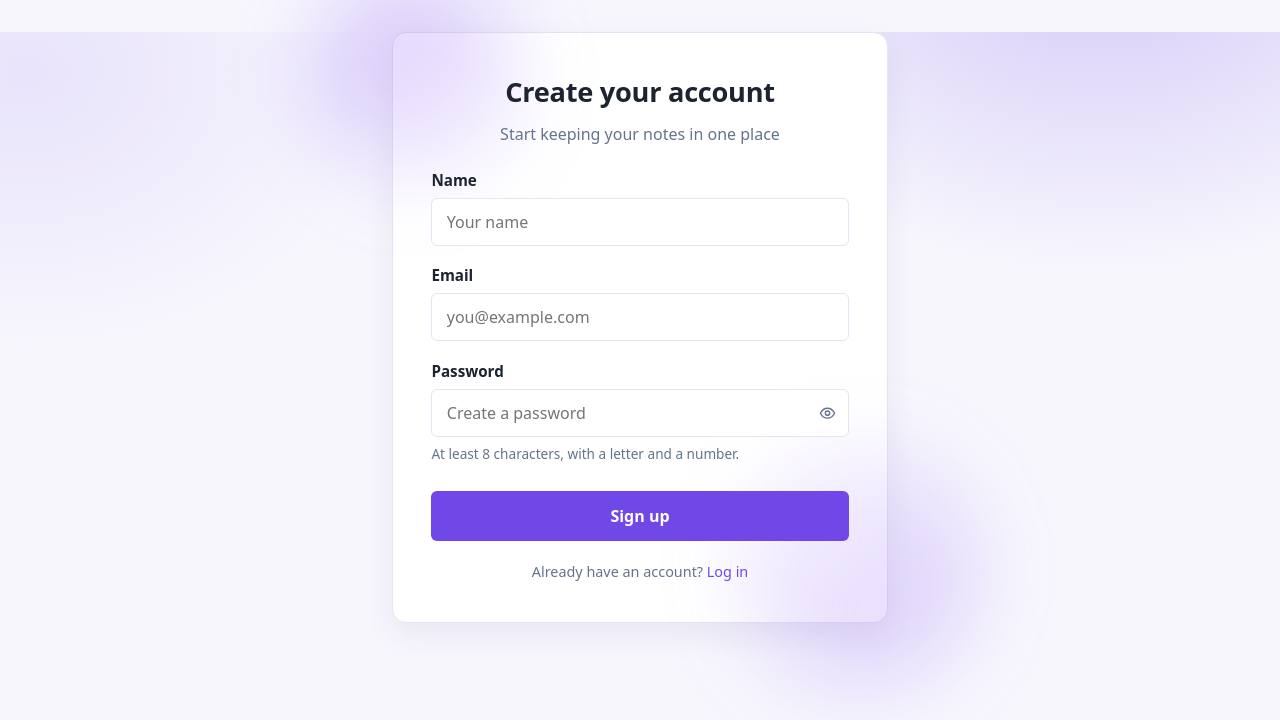
Scenario: SignupPage › shows the message when the email is already taken
Type "Aiman" into the field with placeholder "Your name" at [640, 222], box [431,198,849,246]
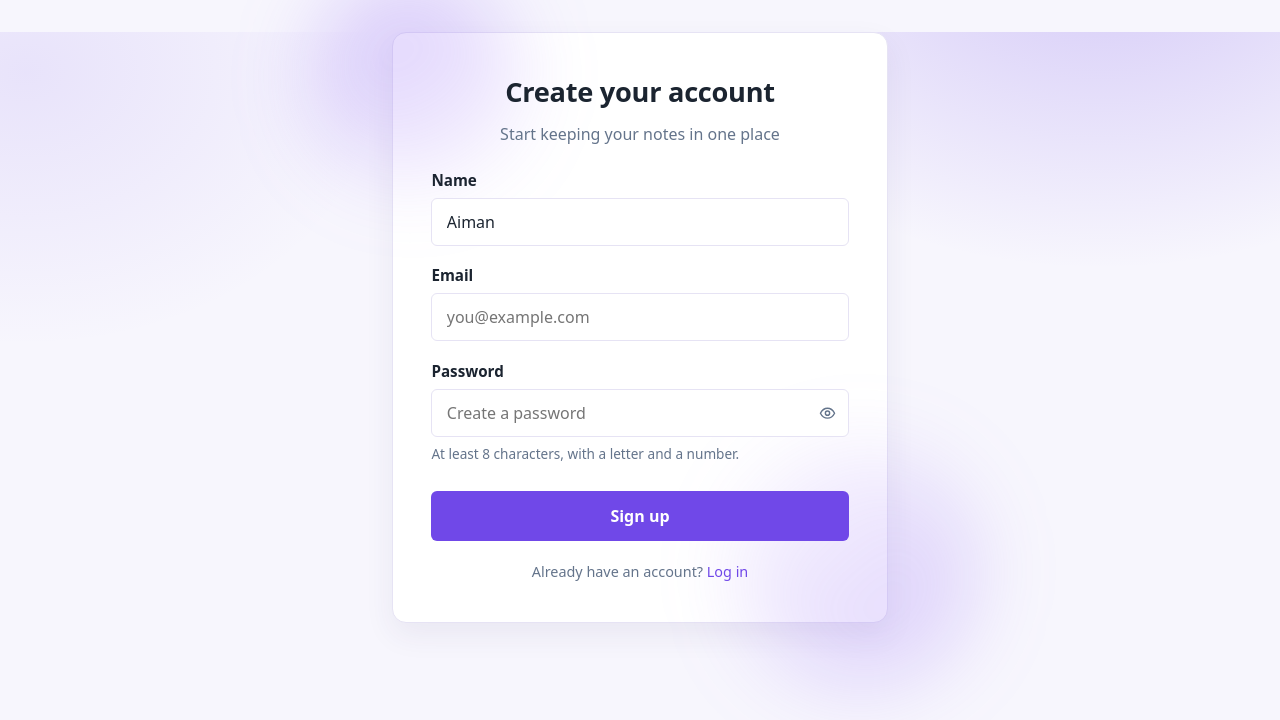
Type "aiman@example.com" into the field with placeholder "you@example.com" at [640, 317], box [431,293,849,341]
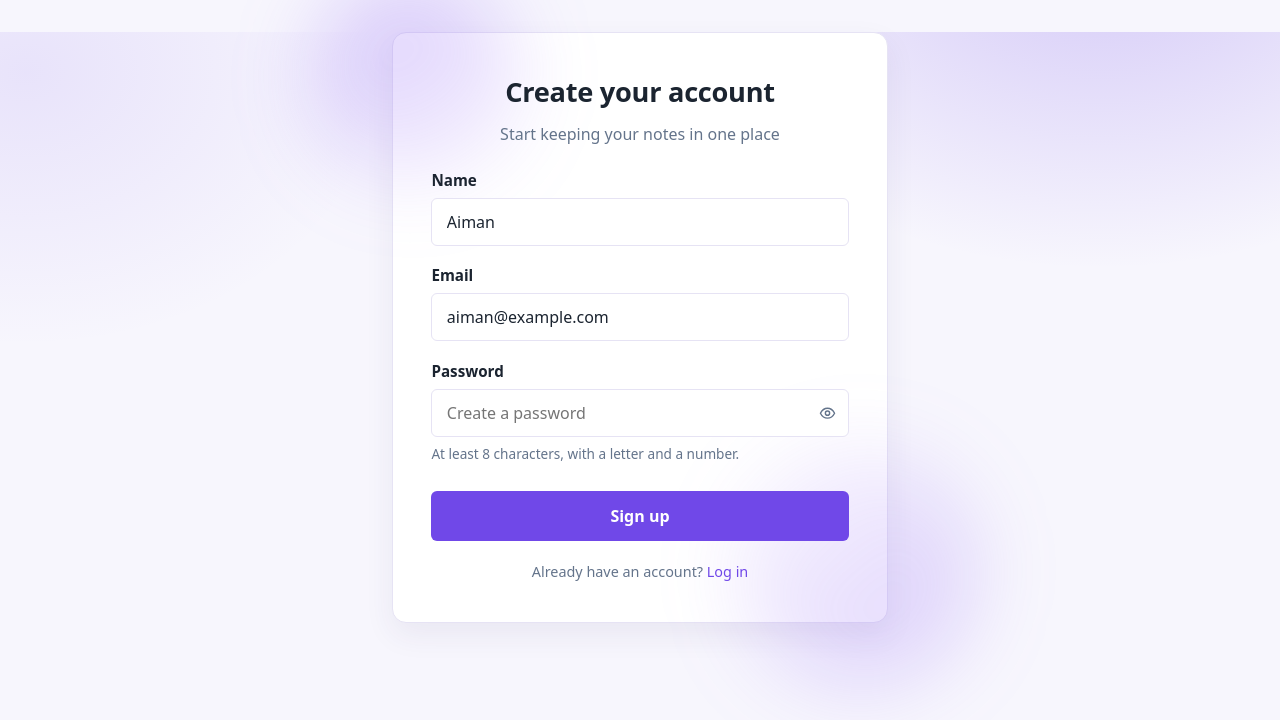
Type "GoodPass1" into the password field with placeholder "Create a password" at [640, 413], box [431,389,849,437]
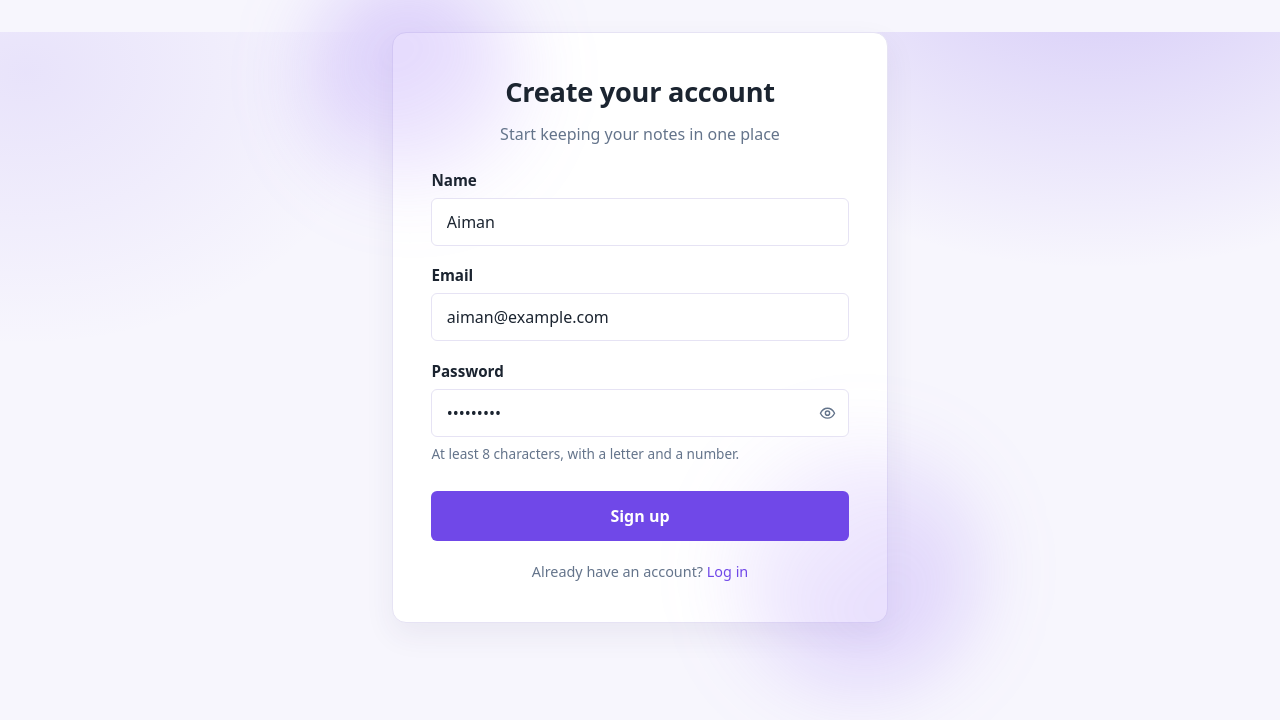
Click the button "Sign up" at [640, 516], box [431,491,849,541]
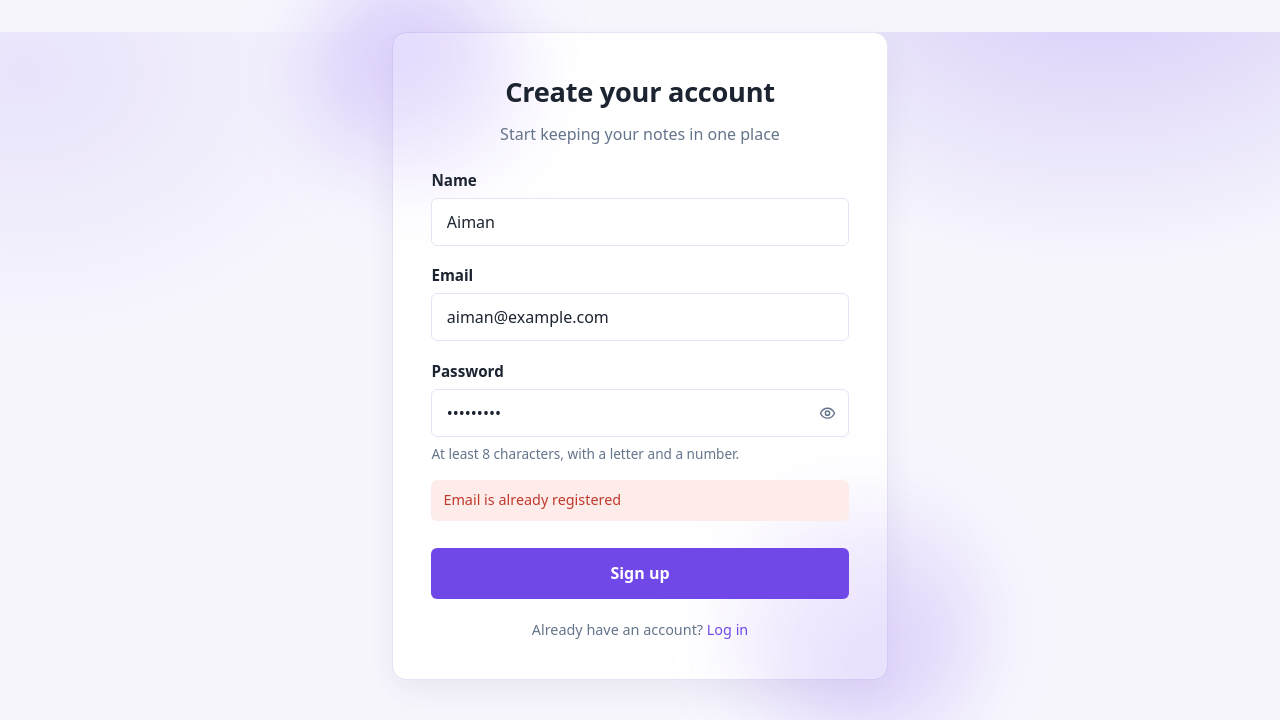
Check: the text "Email is already registered" is shown, box [431,480,849,521]
